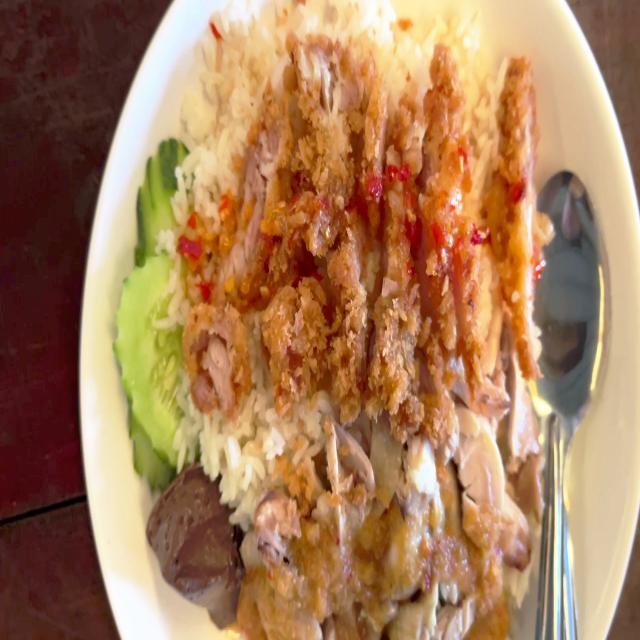boiled_chicken: (231, 411, 526, 635)
boiled_chicken_blood_jelly: (145, 460, 235, 613)
chicken_rice: (122, 0, 542, 640)
cucumber: (116, 138, 195, 475)
fried_chicken: (206, 41, 537, 393)
